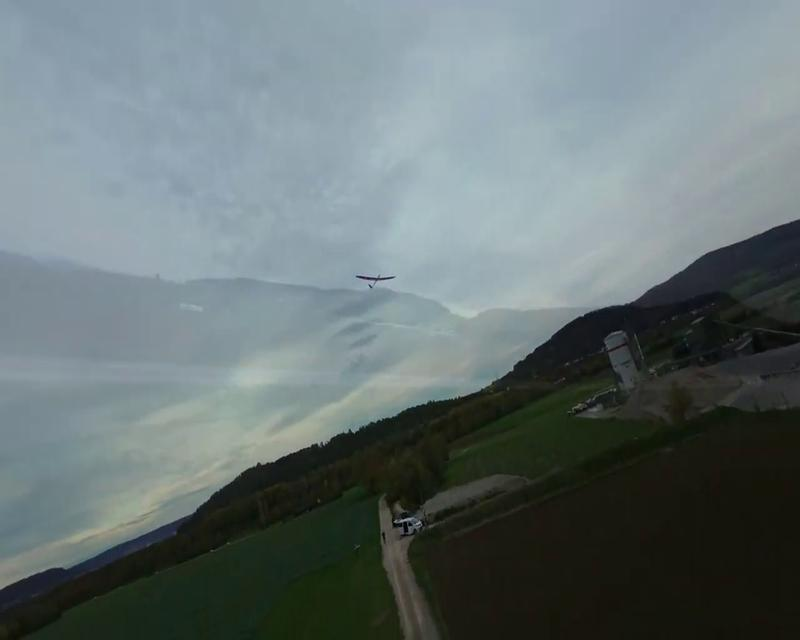UAV: (355, 273, 395, 289)
